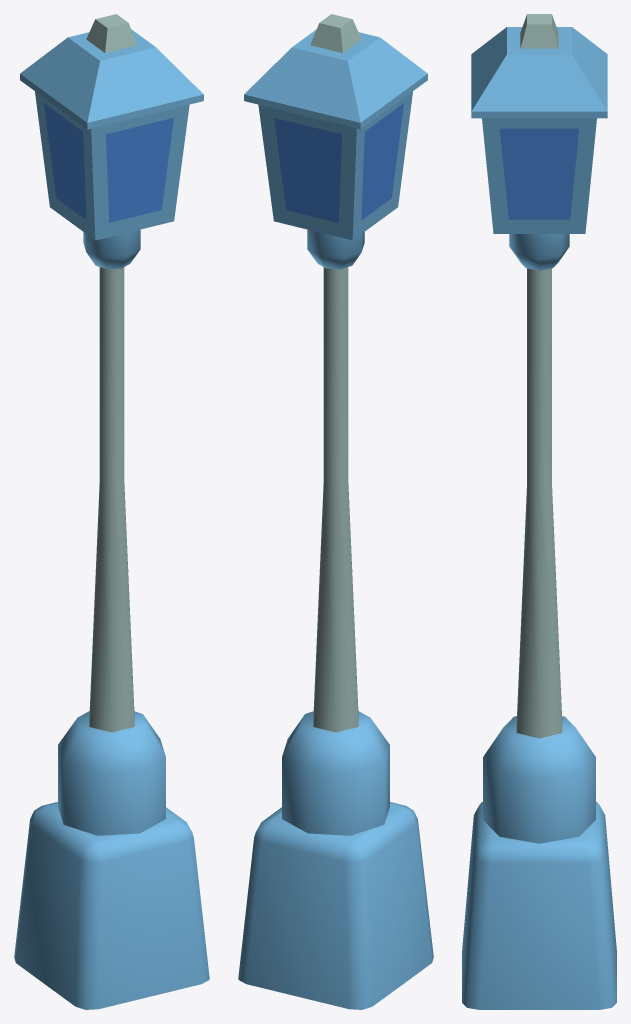
The model's file is ParkLamp_01a.fbx.
The picture shows the model from 3 angles, left to right: view 1: azimuth 30°, elevation 25°; view 2: azimuth 150°, elevation 25°; view 3: azimuth 270°, elevation 25°; orthographic projection.
Visible parts, largest first — view 1: ParkLamp_01a; view 2: ParkLamp_01a; view 3: ParkLamp_01a.
Part boxes in pixels (<box>): ParkLamp_01a: <box>14,14,209,1009</box>; ParkLamp_01a: <box>238,14,433,1009</box>; ParkLamp_01a: <box>462,14,616,1009</box>.
Size of the model in its own units: 79.55 by 543 by 79.55.
